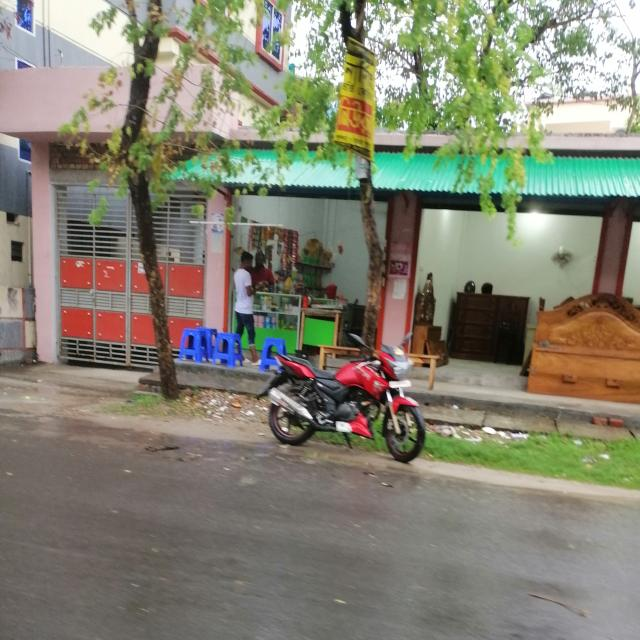Motorbike: (263, 335, 428, 469)
